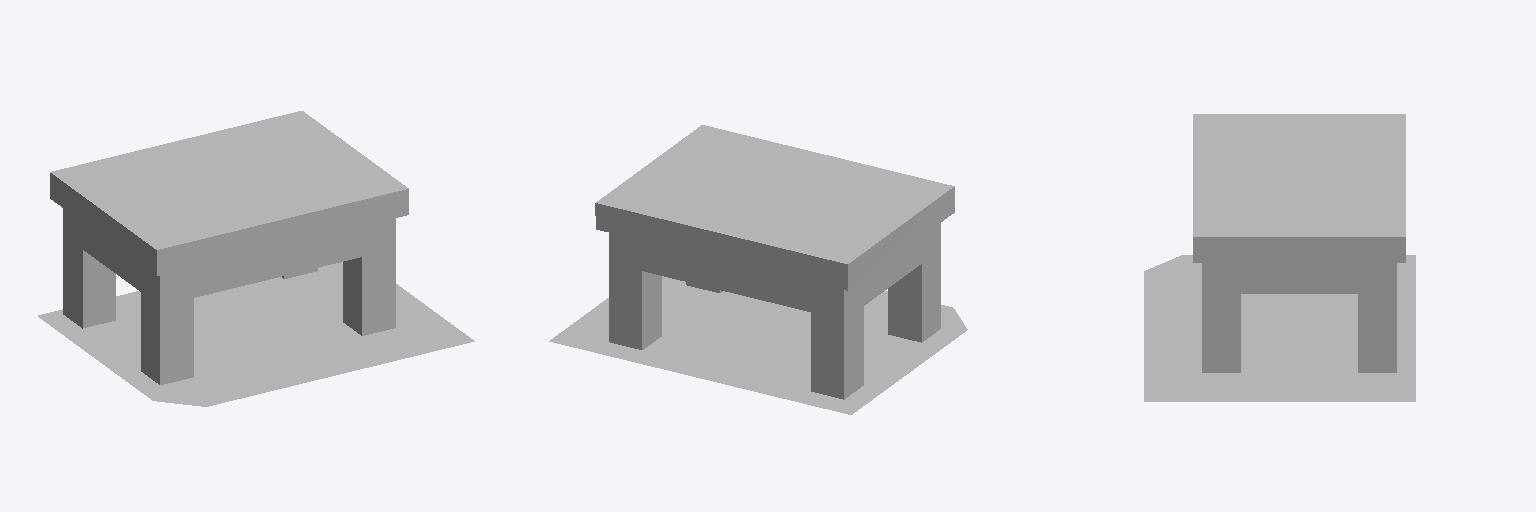
File: Table 13.obj
3 views of the same model, side by side, from view 1: azimuth 30°, elevation 25°; view 2: azimuth 150°, elevation 25°; view 3: azimuth 270°, elevation 25° (orthographic).
Parts seen in each view (by area): view 1: polygon1, polygon0; view 2: polygon1, polygon0; view 3: polygon1, polygon0.
Part boxes in pixels (left/top/right/bottom): polygon1: left=50, top=111, right=408, bottom=384; polygon0: left=38, top=262, right=474, bottom=406; polygon1: left=595, top=125, right=954, bottom=399; polygon0: left=549, top=276, right=967, bottom=414; polygon1: left=1193, top=114, right=1405, bottom=372; polygon0: left=1144, top=255, right=1415, bottom=401.
Bounding box in the file's own units: 36 × 16.5 × 28.